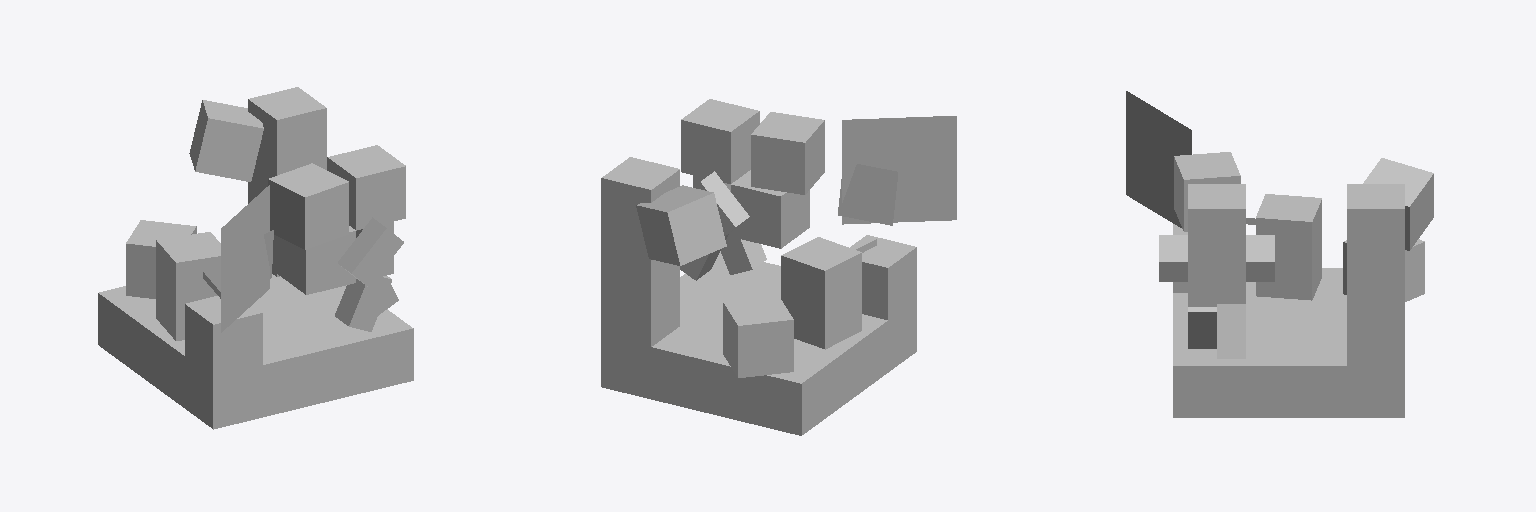
3 renders of one model, left to right at view 1: azimuth 30°, elevation 25°; view 2: azimuth 150°, elevation 25°; view 3: azimuth 270°, elevation 25°, orthographic.
Visible parts, largest first — view 1: floor, cube, wood, brown brick from cumcock, brix, jukeboke, THE CAT; view 2: floor, wood, cube, brix, brown brick from cumcock, THE CAT, jukeboke, disk; view 3: floor, cube, wood, brix, brown brick from cumcock, THE CAT.
Boxes of the visible parts, <box> form: floor: <box>98,274,413,429</box>; cube: <box>156,145,405,340</box>; wood: <box>189,87,326,276</box>; brown brick from cumcock: <box>268,163,355,294</box>; brix: <box>221,185,269,332</box>; jukeboke: <box>185,296,262,376</box>; THE CAT: <box>126,220,196,298</box>; floor: <box>601,251,916,435</box>; wood: <box>601,157,726,346</box>; cube: <box>680,99,876,349</box>; brix: <box>842,116,956,224</box>; brown brick from cumcock: <box>731,112,824,248</box>; THE CAT: <box>723,296,793,377</box>; jukeboke: <box>850,235,916,319</box>; disk: <box>838,164,897,225</box>; floor: <box>1173,268,1404,417</box>; cube: <box>1159,184,1321,358</box>; wood: <box>1347,158,1433,365</box>; brix: <box>1126,91,1191,227</box>; brown brick from cumcock: <box>1174,152,1240,231</box>; THE CAT: <box>1343,239,1424,301</box>.
Size of the model in its own units: 1.12 by 1.06 by 1.33.